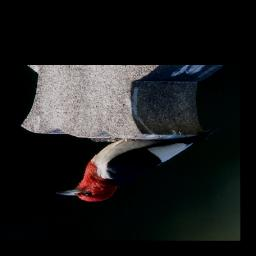Woodpecker: (51, 124, 223, 204)
